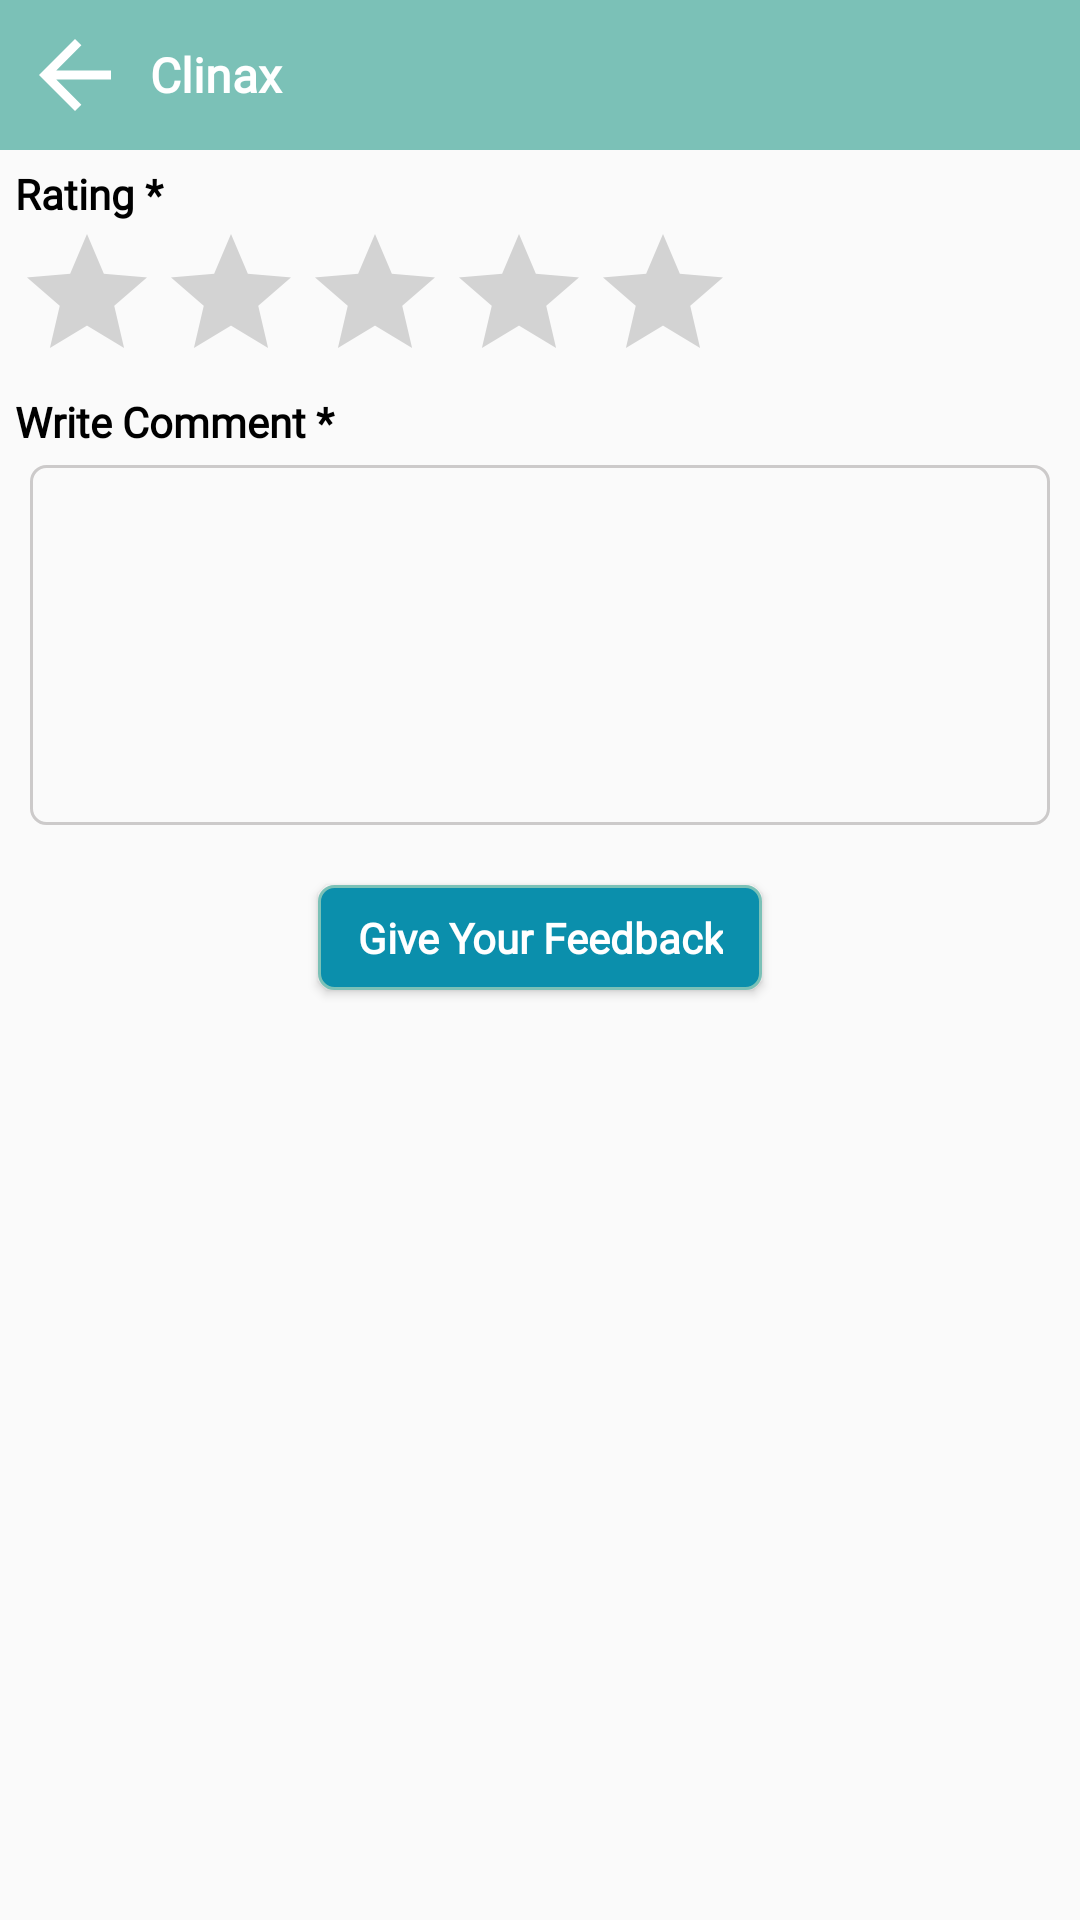

Locate icon controls on the screen. Image size 1080px x 1920px, boxes as (x1, y1, x2, y2).
arrow back: (39, 39, 111, 111)
